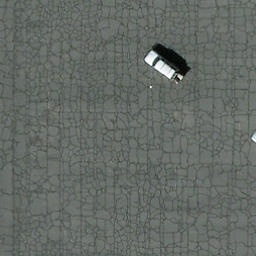car: (143, 49, 181, 81)
